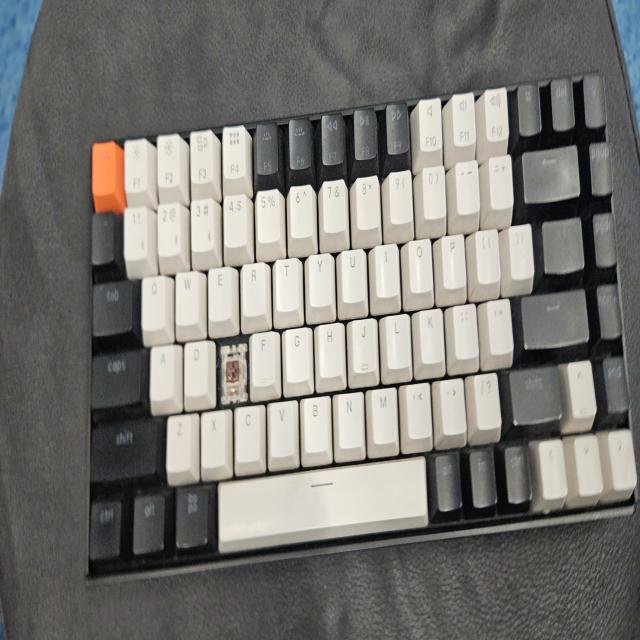C: (220, 346, 245, 401)
